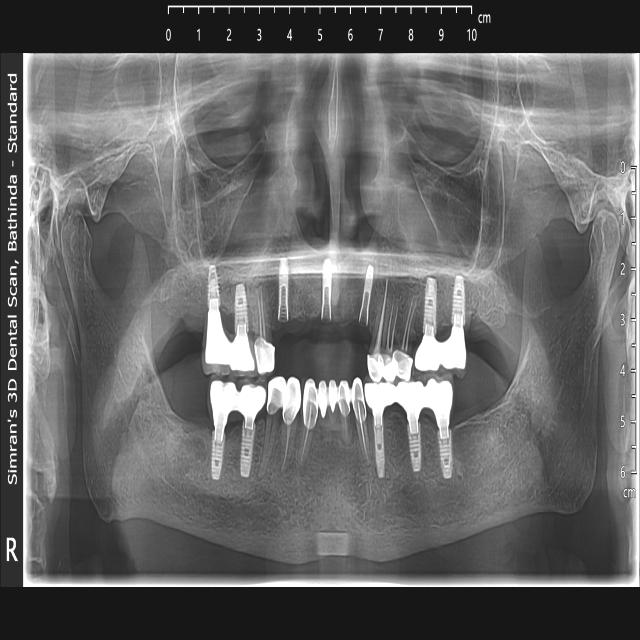Crown: (365, 378, 453, 443), (266, 375, 367, 430), (211, 382, 267, 444), (206, 307, 256, 372), (414, 325, 467, 374), (367, 349, 413, 384), (255, 341, 275, 375)
Implant: (358, 264, 375, 328), (405, 409, 421, 474), (239, 418, 256, 479), (437, 429, 455, 483), (422, 275, 436, 336), (372, 412, 385, 477), (212, 426, 226, 481), (234, 284, 250, 330), (321, 257, 332, 323), (452, 274, 466, 325), (277, 258, 288, 322), (207, 264, 221, 312)
Missing teeth: (293, 290, 320, 335), (334, 290, 356, 333), (318, 423, 337, 460), (225, 417, 240, 463)
Root Canal Treatment: (368, 271, 391, 382), (297, 410, 319, 474), (398, 291, 419, 353), (253, 272, 271, 341), (355, 400, 372, 468), (384, 293, 401, 358), (281, 416, 298, 479), (337, 407, 353, 448)
